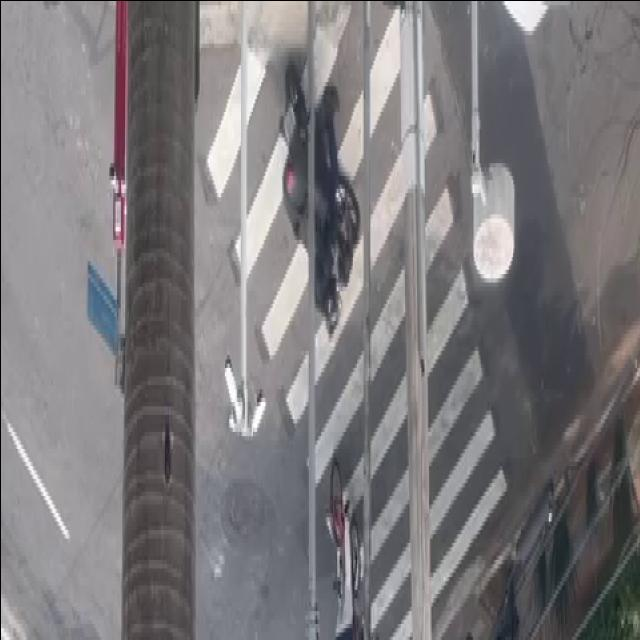bicycle: (324, 443, 363, 640)
motorbike: (274, 51, 363, 354)
